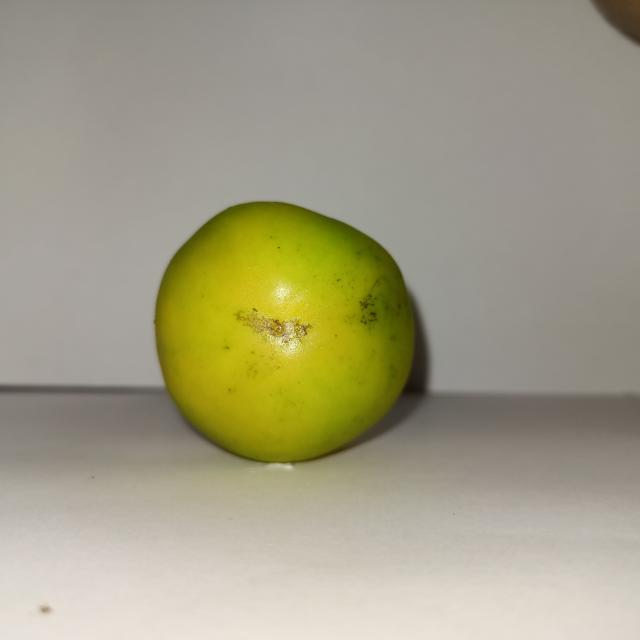Red: (152, 198, 417, 464)
